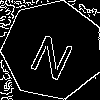N: (27, 25, 81, 82)
